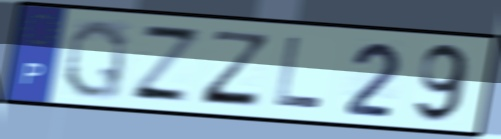2: (338, 35, 409, 120)
9: (412, 41, 474, 125)
L: (272, 34, 326, 112)
Q: (60, 16, 131, 102)
Z: (127, 22, 206, 106), (197, 27, 273, 109)
